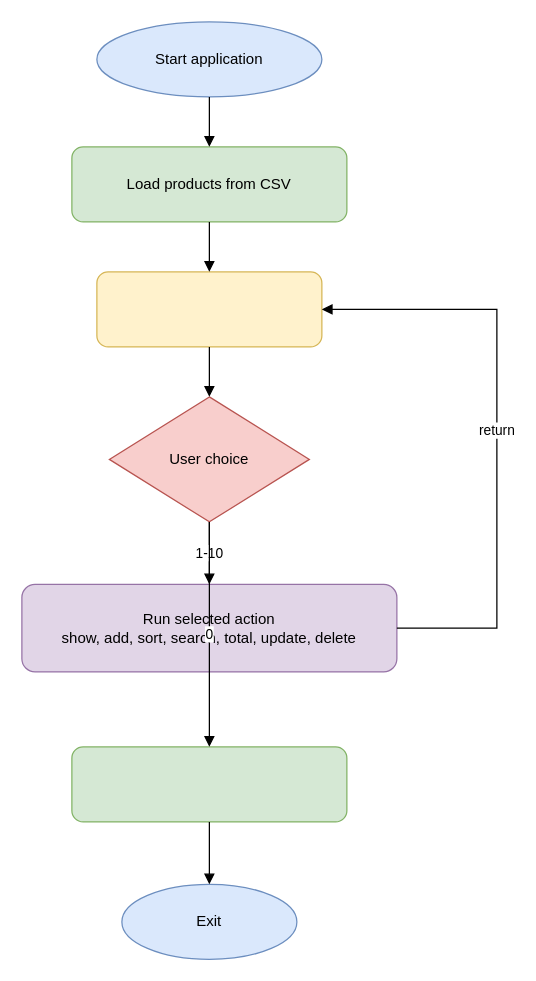
This 536x981 diagram has some shape labels left out. The shapes that lost their labels are listed below. From the top down, each one's box as (x1, y1, x2, y2) in pixels, then its label:
(96, 271, 322, 347): Show menu
(71, 746, 347, 822): Save products to CSV
